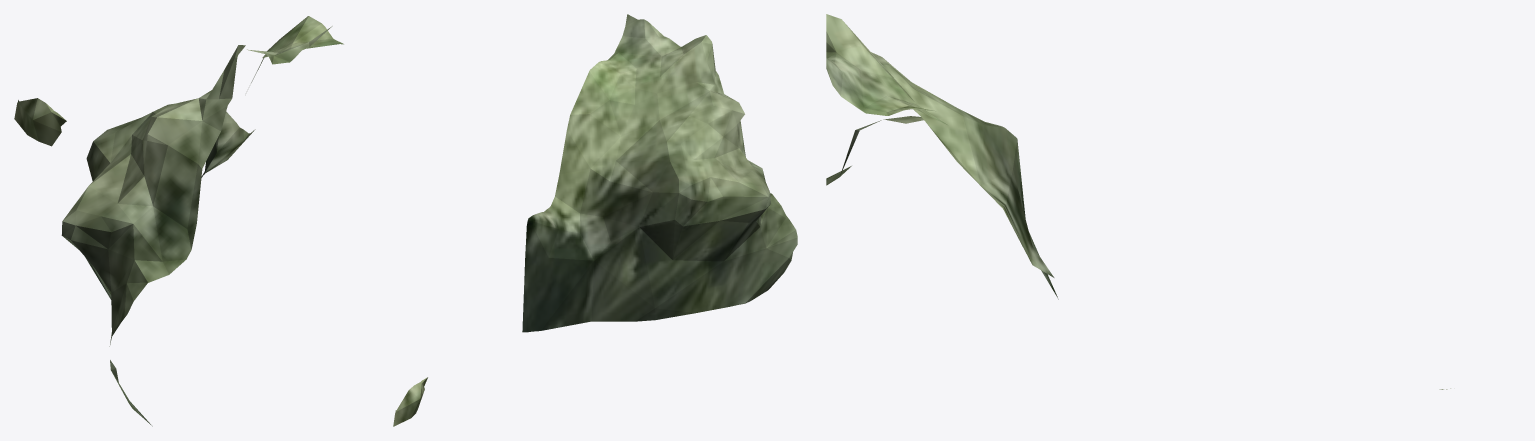
3 views of the same model, side by side, from view 1: azimuth 30°, elevation 25°; view 2: azimuth 150°, elevation 25°; view 3: azimuth 270°, elevation 25° (orthographic). The views are drawn at different scales.
Size of the model in its own units: 1.82 by 2.45 by 4.3.
1 material, 1 textured.
